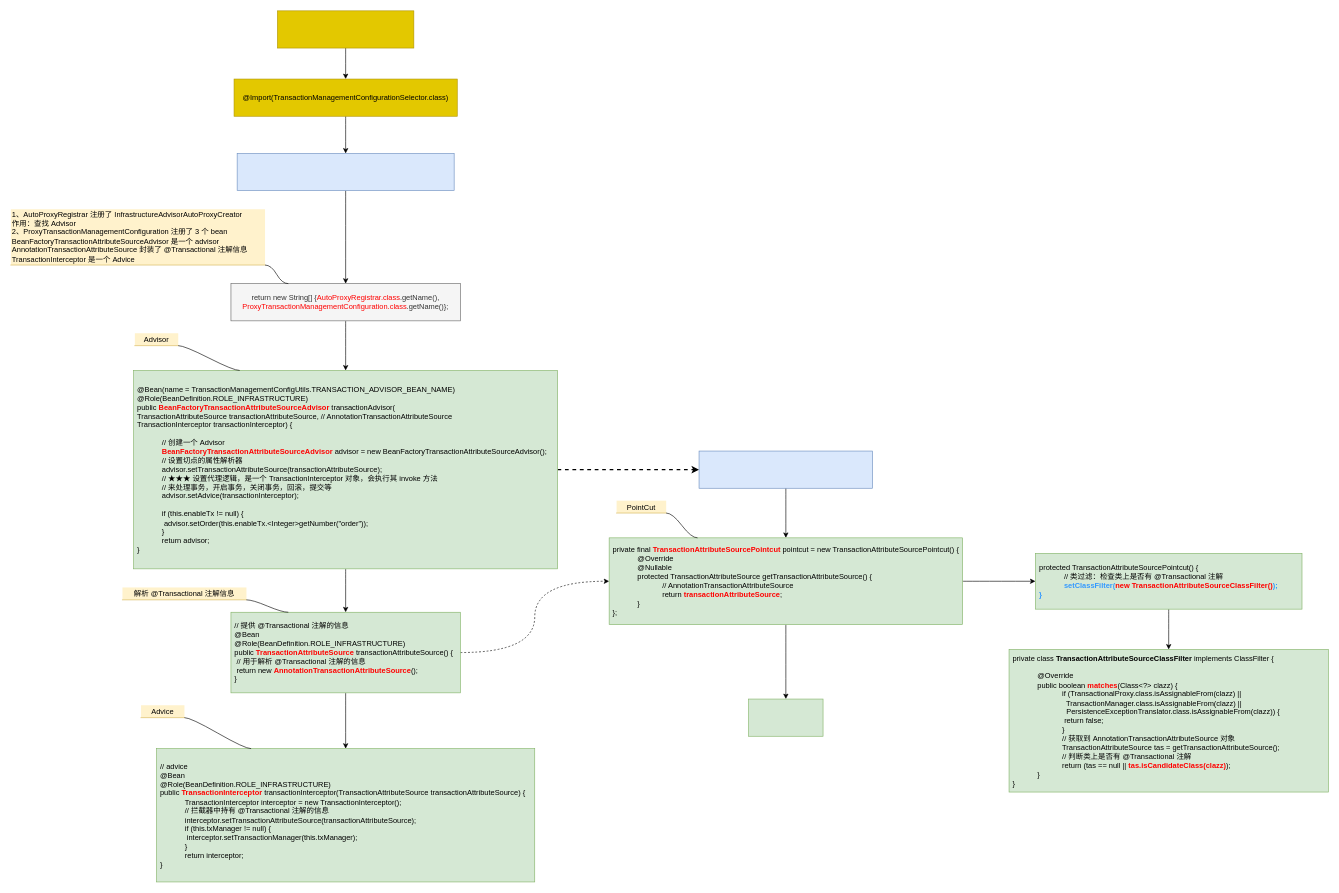
Image size: 1339x893. Some labels were removed from this diagram. The shapes that lost their labels are listed below. From the top down, each one's centre as x and y in pixels, then its label:
At (x=345, y=29): "@EnableTransactionManagement".
At (x=345, y=172): "TransactionManagementConfigurationSelector# selectImports".
At (x=785, y=469): "BeanFactoryTransactionAttributeSourceAdvisor".
